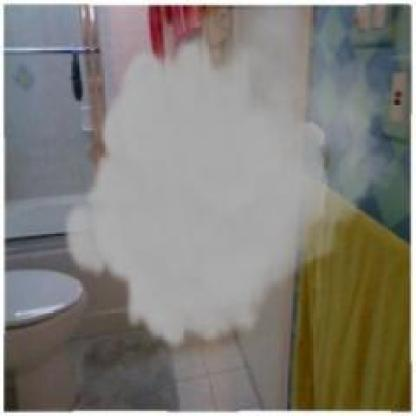Smoke: (62, 10, 401, 351)
